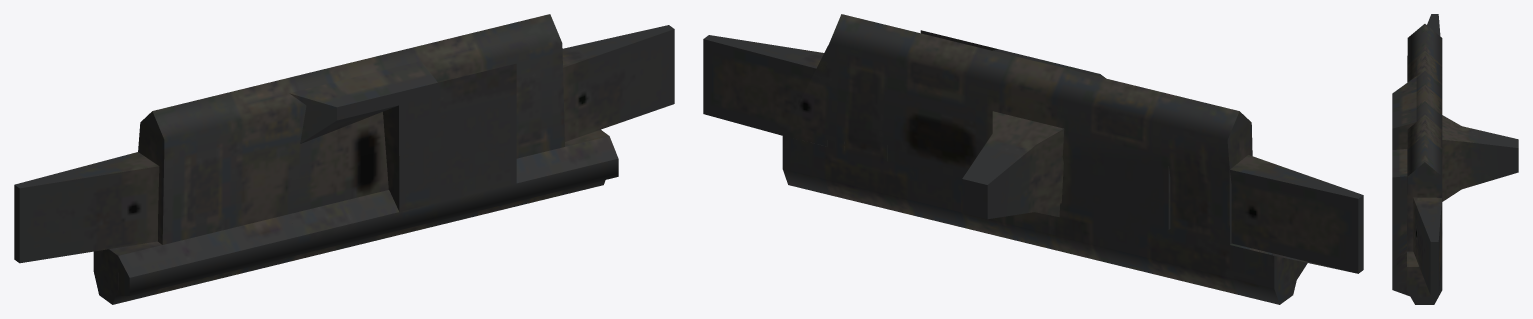
3 views of the same model, side by side, from view 1: azimuth 30°, elevation 25°; view 2: azimuth 150°, elevation 25°; view 3: azimuth 270°, elevation 25° (orthographic). The views are drawn at different scales.
Parts seen in each view (by area): view 1: set_0_group_0; view 2: set_0_group_0; view 3: set_0_group_0.
Boxes of the visible parts, x1,y1,x2,y2 form: set_0_group_0: (14, 14, 674, 304); set_0_group_0: (703, 14, 1363, 304); set_0_group_0: (1392, 14, 1518, 304).
Size of the model in its own units: 0.8001 by 0.2073 by 0.1871.
1 material, 1 textured.
